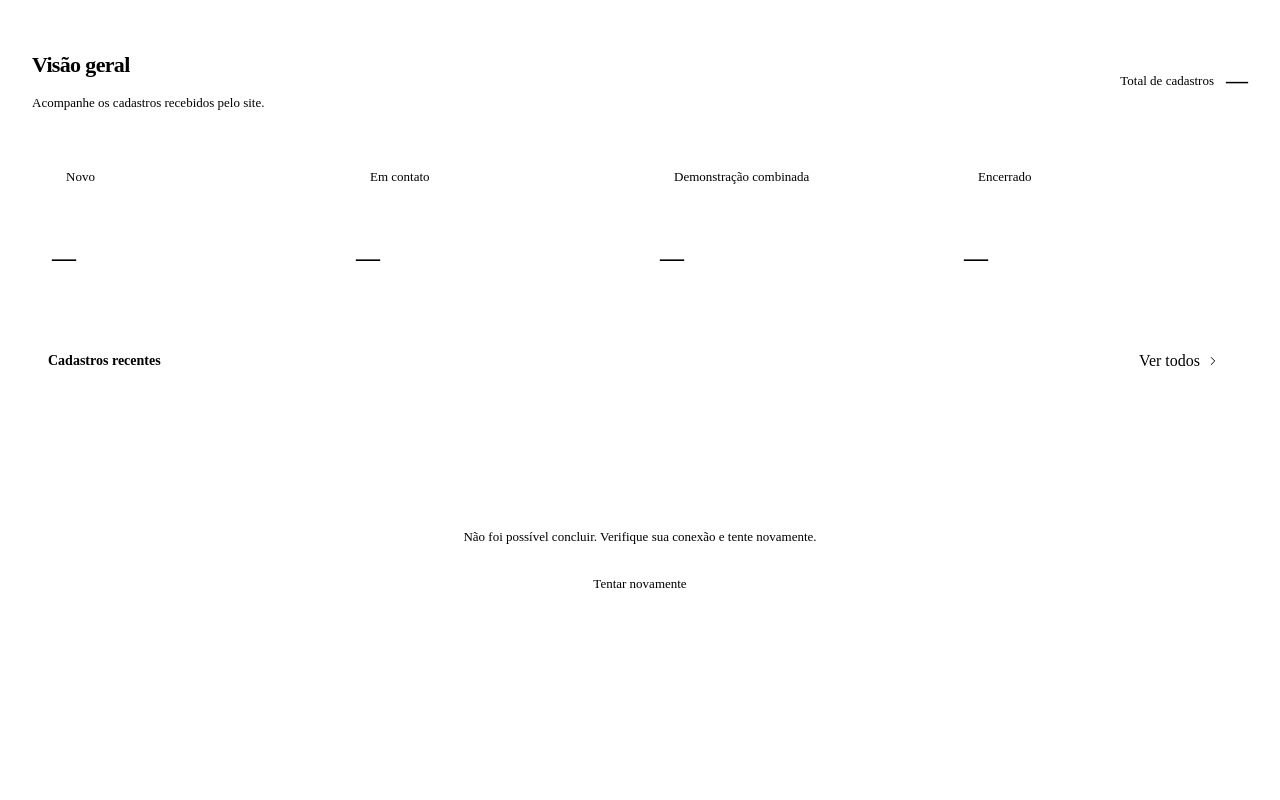
administrative overview › retries loading after a request failure without showing an empty state
Expected: the message shows "Não foi possível concluir", left=463, top=530, right=817, bottom=544
What coordinates should you click on to do the following:
click the button "Tentar novamente"
I would click on:
 (640, 584)
Its box is left=581, top=570, right=699, bottom=598.
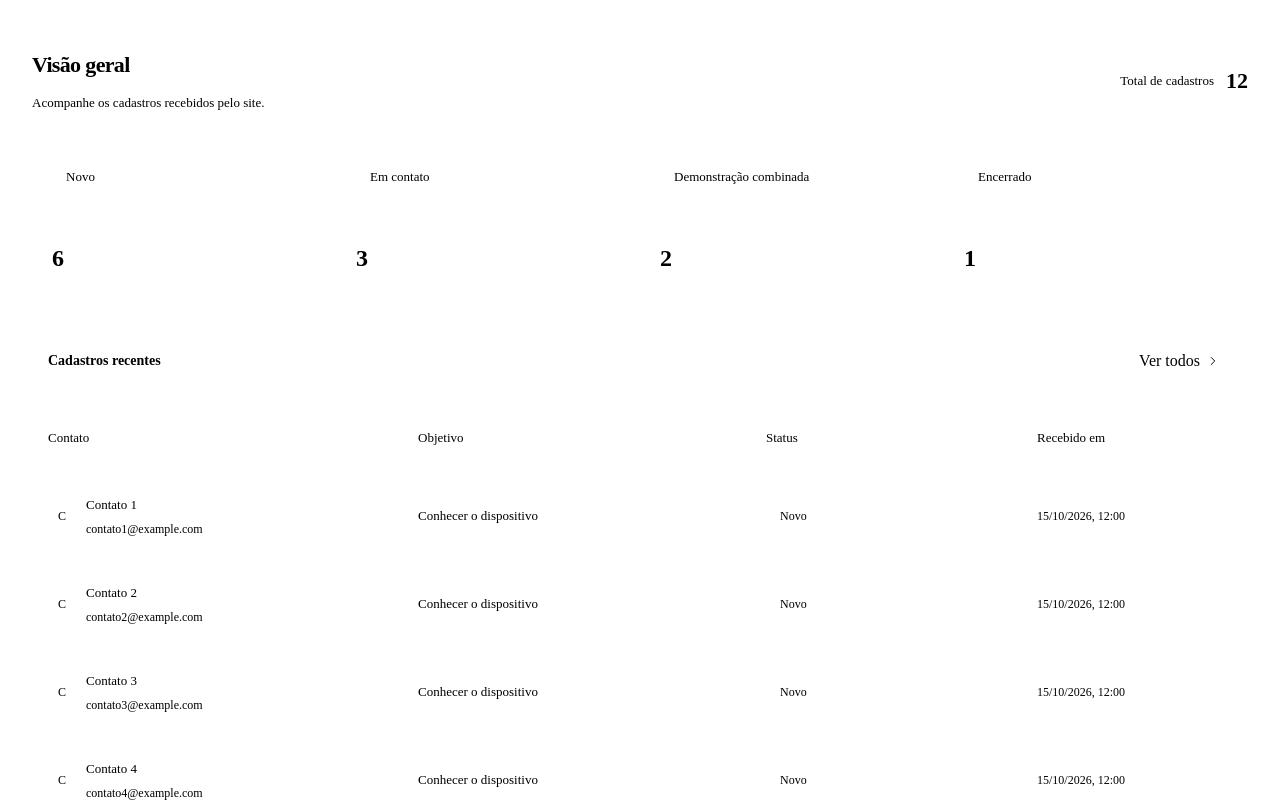
Expected: the text "Contato 1" is shown, left=86, top=497, right=137, bottom=512
Expected: the message "Não foi possível concluir. Verifique sua conexão e tente novamente." is gone
